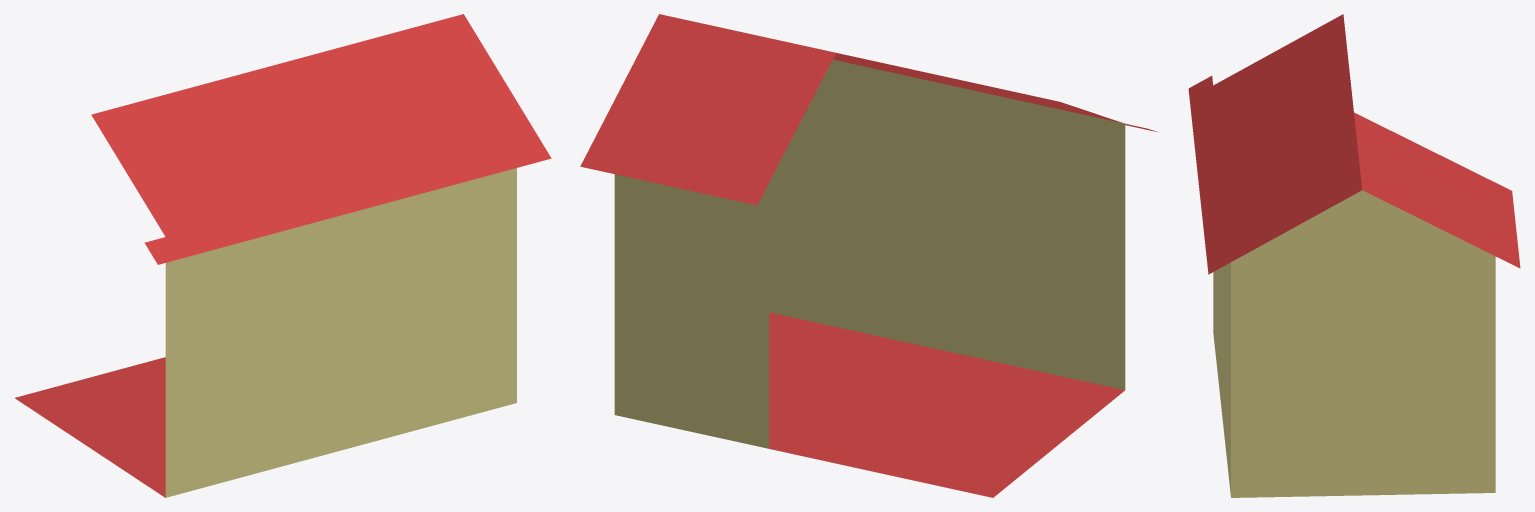
The picture shows the model from 3 angles, left to right: view 1: azimuth 30°, elevation 25°; view 2: azimuth 150°, elevation 25°; view 3: azimuth 270°, elevation 25°; orthographic projection. The views are drawn at different scales.
Size of the model in its own units: 18.66 by 14.03 by 14.7.
